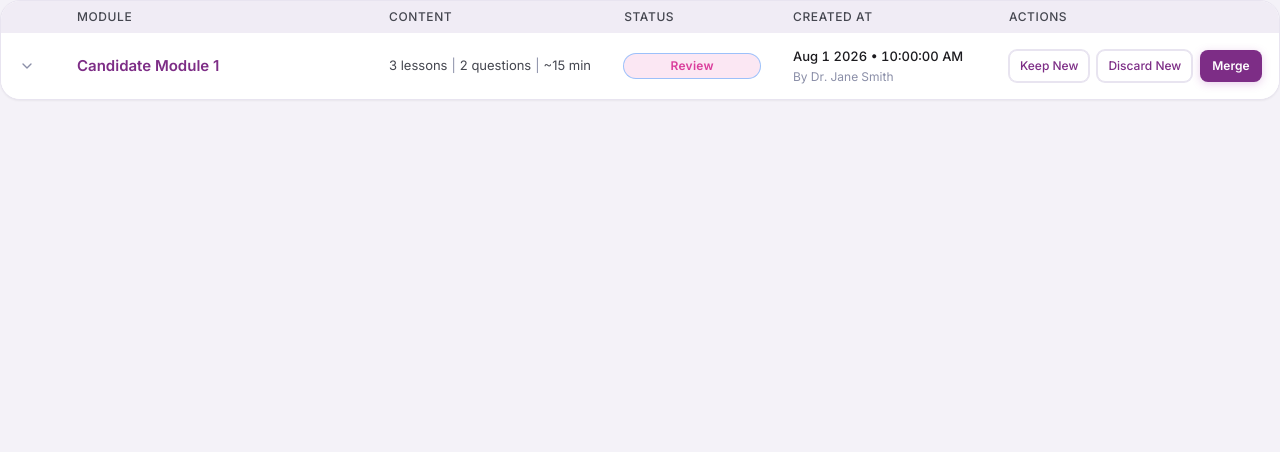
Test: NeedsReviewTab › toggles accordion row and shows comparison cards on click
The width and height of the screenshot is (1280, 452).
Click the button named "Expand comparison" at (27, 66), box x1=13 y1=52 x2=41 y2=80
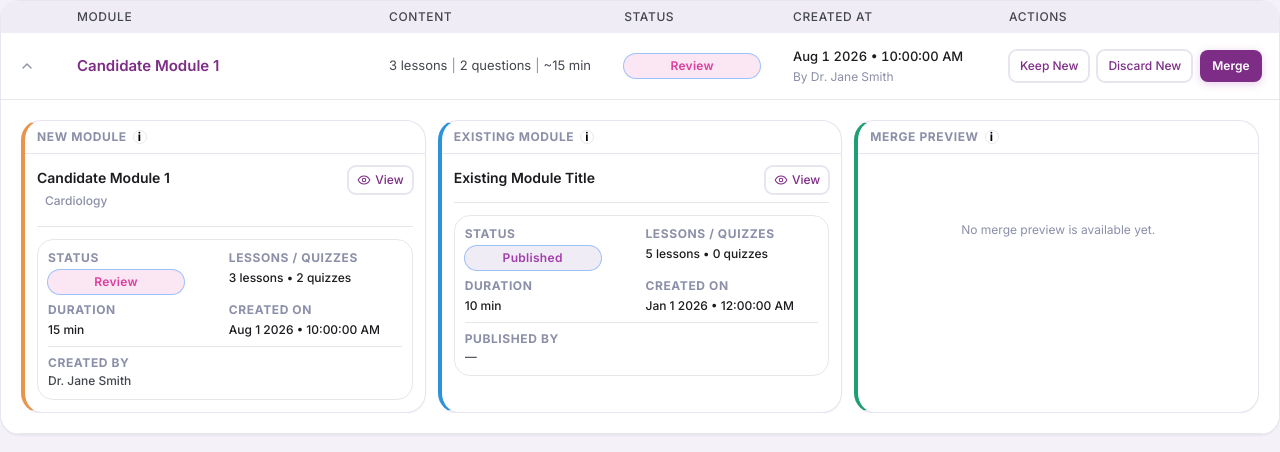
Check: the heading "Existing Module Title" is shown, box x1=454 y1=168 x2=595 y2=186
Check: the text "New Module" is shown, box x1=37 y1=128 x2=127 y2=144
Check: the text "Existing Module" is shown, box x1=454 y1=128 x2=574 y2=144
